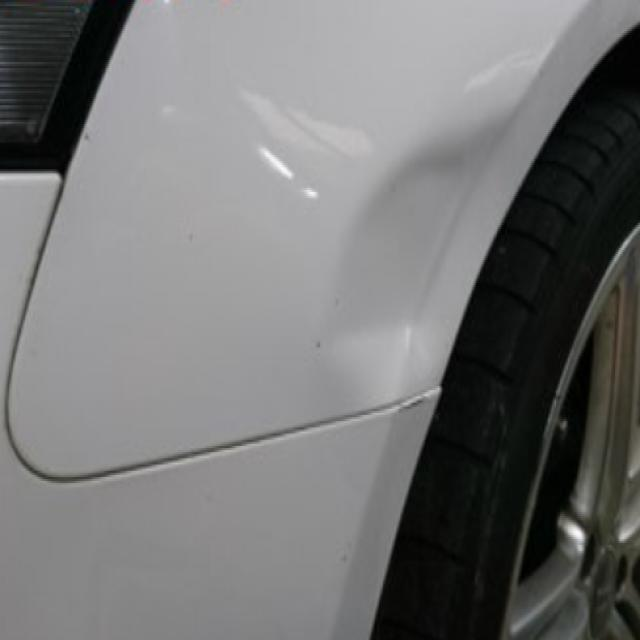dents: (324, 127, 502, 403)
